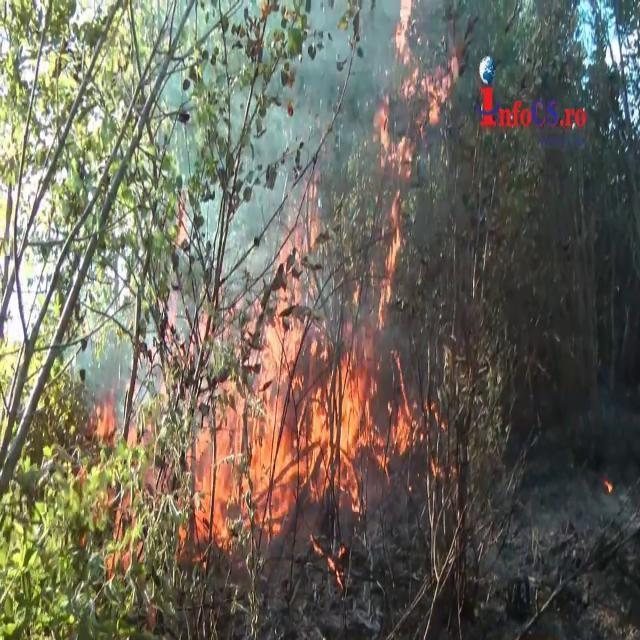Fire: (193, 204, 428, 546)
